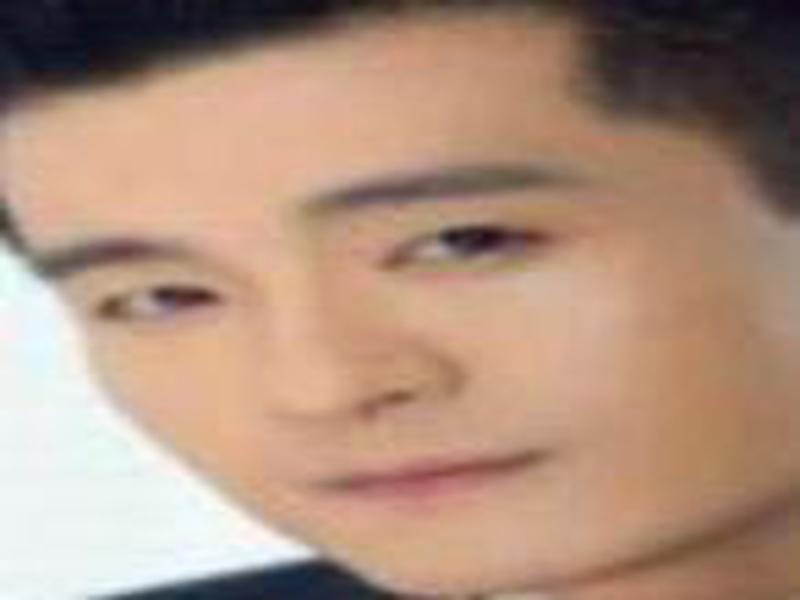without_mask: (1, 27, 800, 597)
